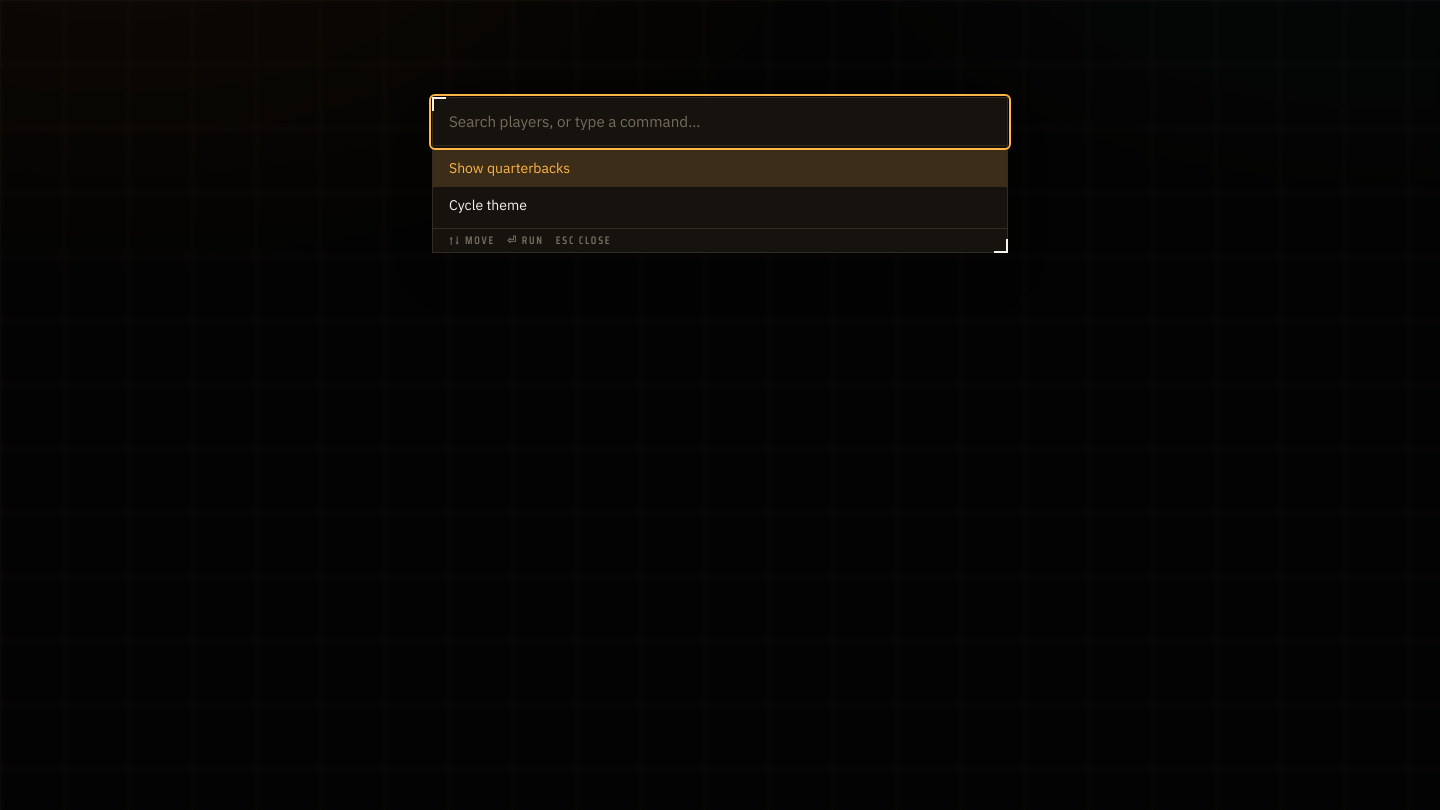
Test case: CommandPalette › says so plainly when nothing matches
Type "zzzzz" into the field at (720, 122), box [433,98,1007,146]
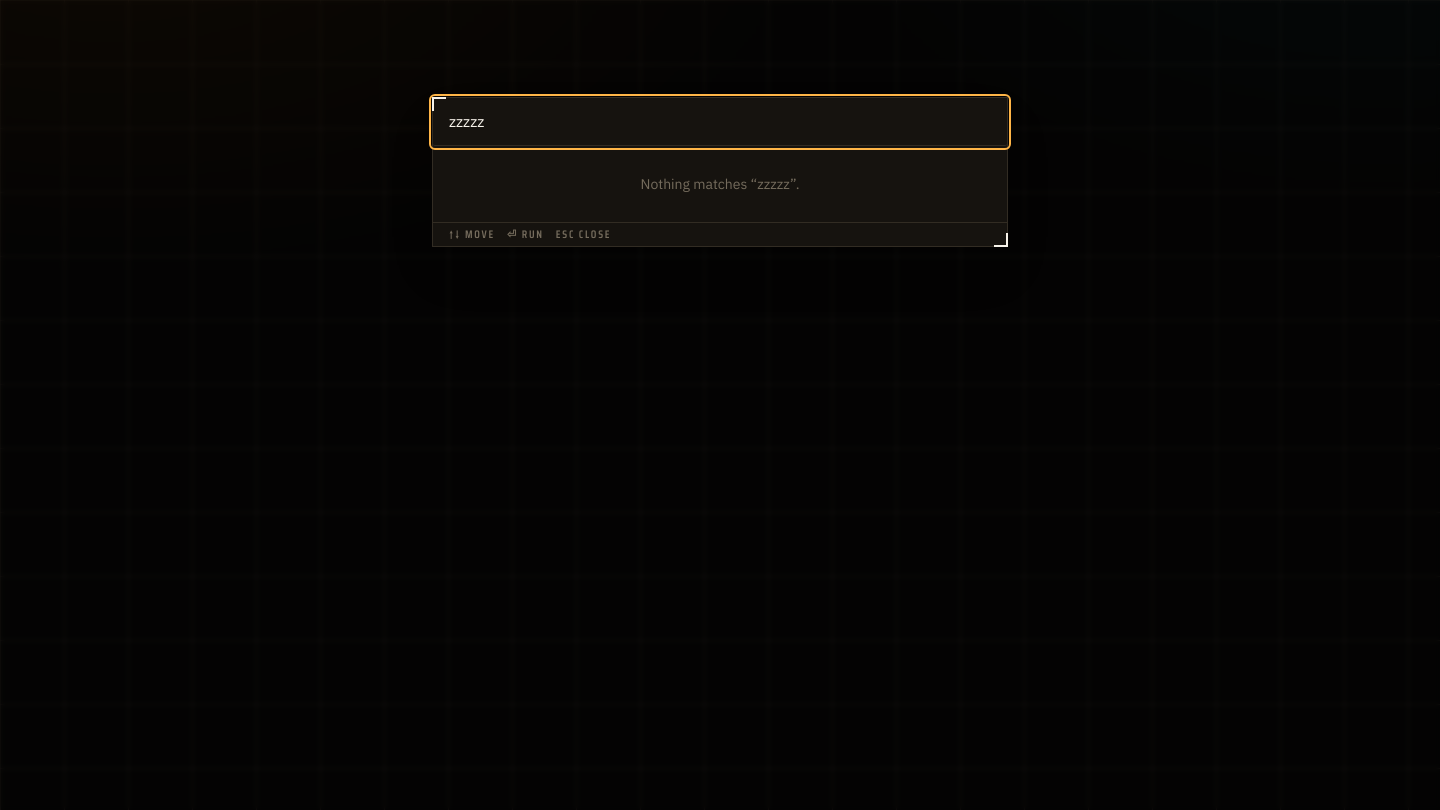
Now the list item "Nothing matches “zzzzz”." is shown, box [640,175,800,193]
